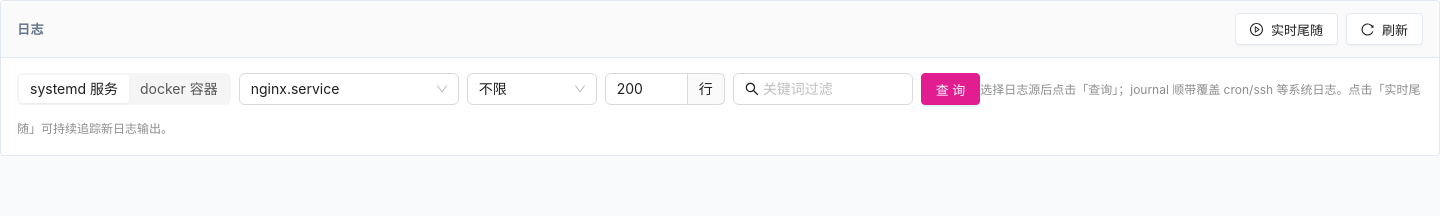
Test case: LogsPanel › 查询失败 message.error；关键词过滤透传 grep 且高亮命中
Expected: the text "nginx.service" is shown, [251, 80, 340, 97]
Type "bad" into the field with placeholder "关键词过滤" at (824, 89), box [763, 78, 885, 100]
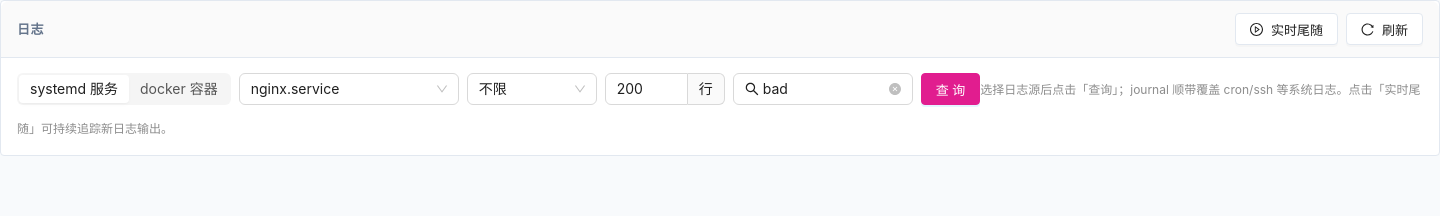
Click the button "查 询" at (951, 89), box [921, 73, 980, 105]
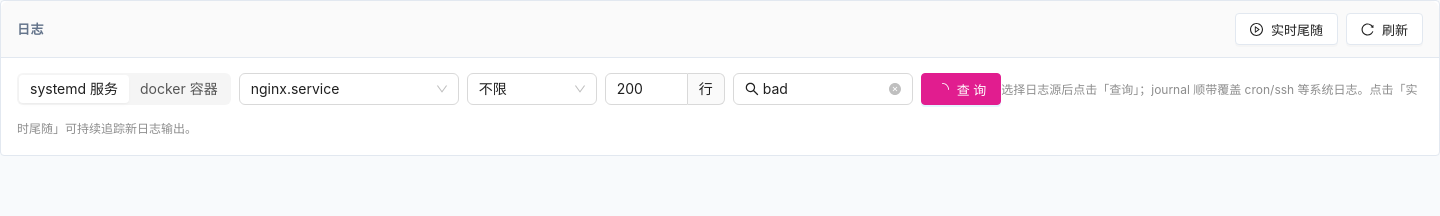
Click the button "查 询" at (961, 89), box [921, 73, 1001, 105]
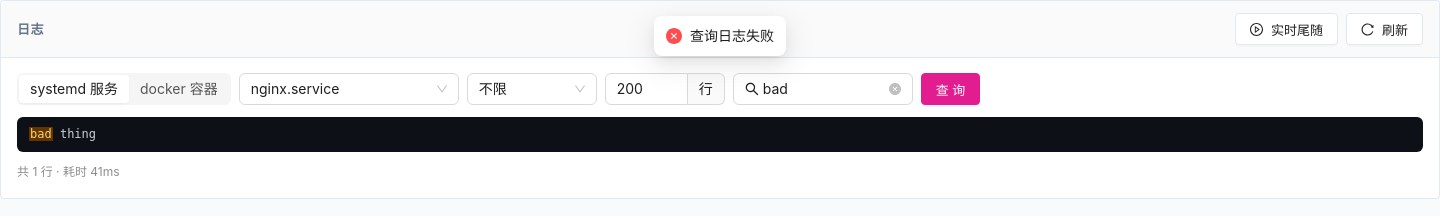
Expected: the text "bad" is shown, [29, 127, 53, 141]
